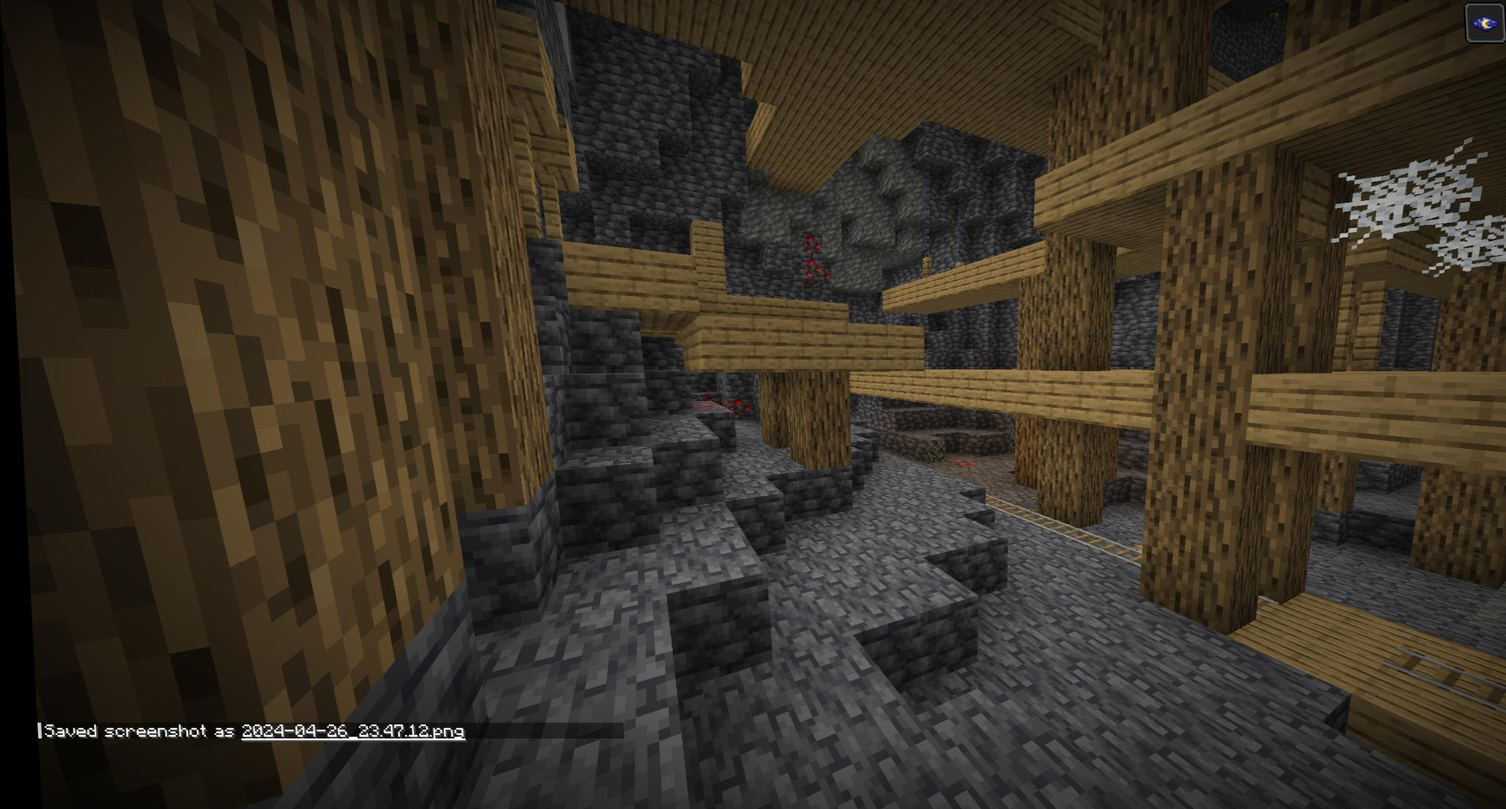redstone ore: (681, 387, 749, 424), (797, 237, 831, 284)
